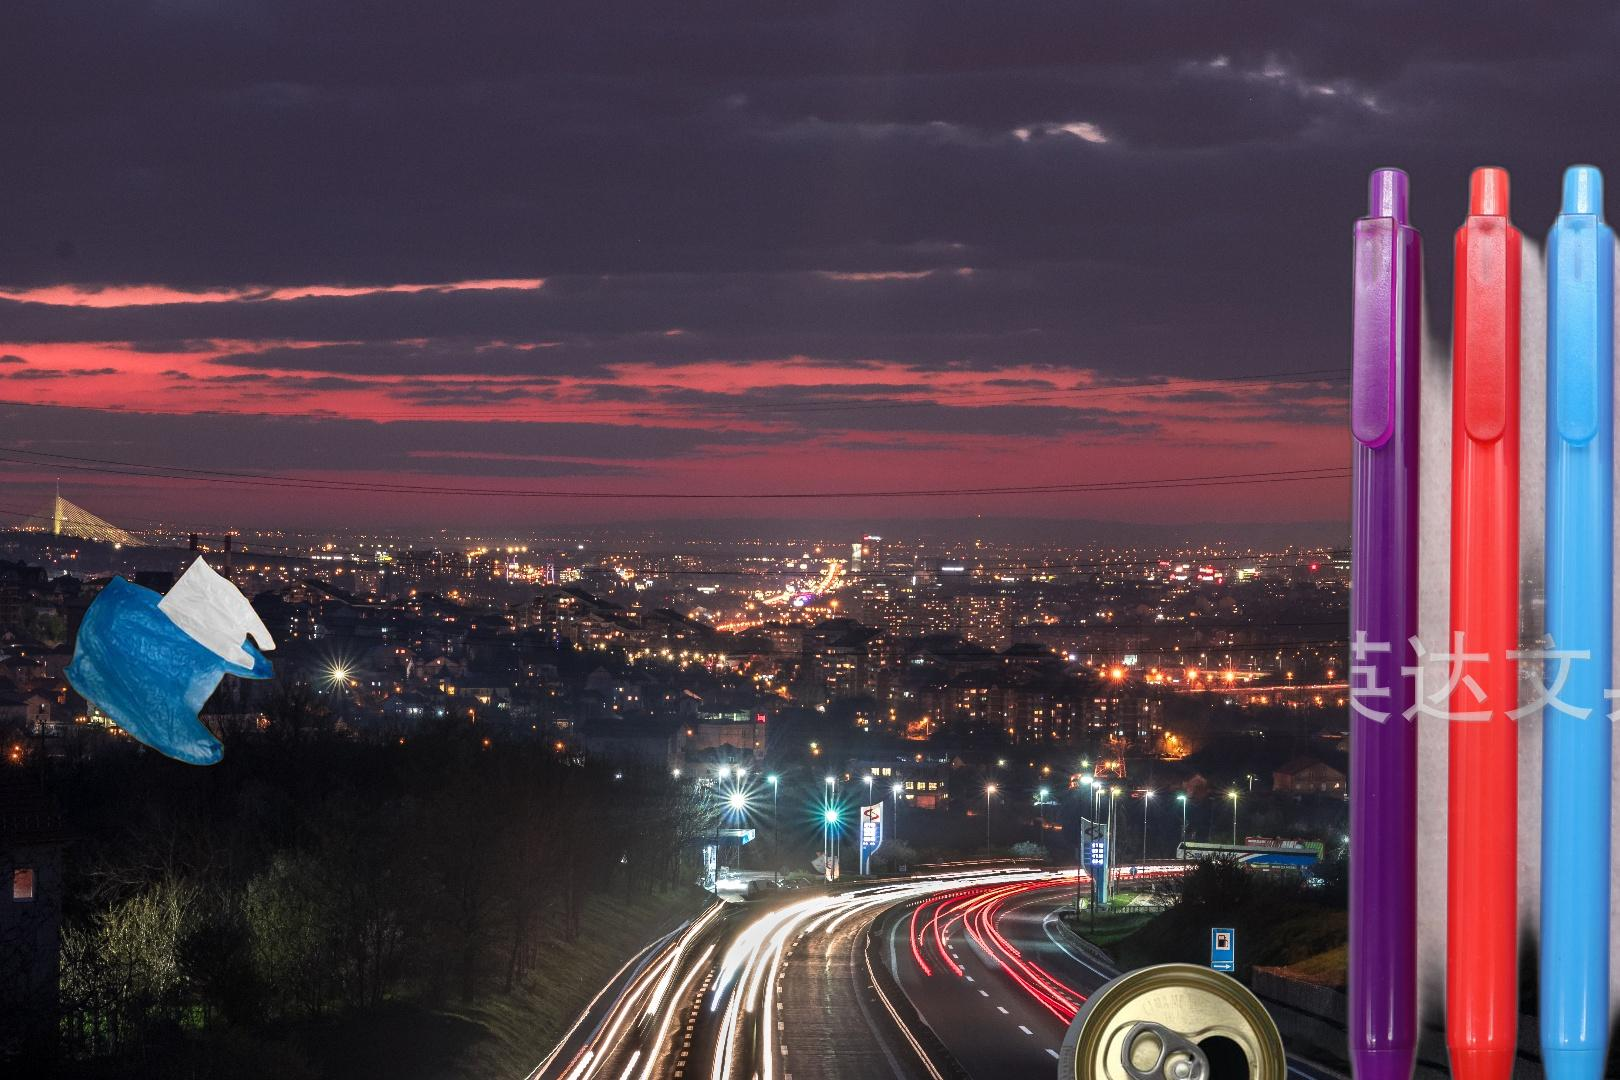metal-cans: (1053, 959, 1292, 1080)
penholder: (1337, 152, 1620, 1080)
plastic-bag: (58, 552, 278, 769)
